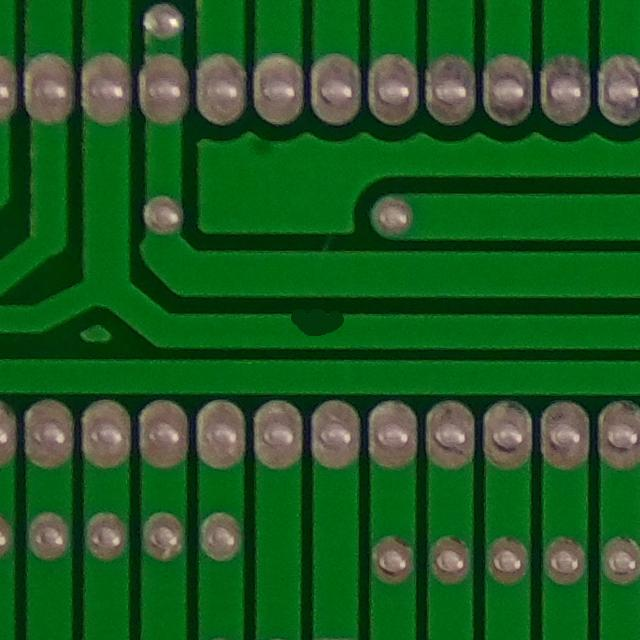mouse_bite: (278, 292, 363, 348)
